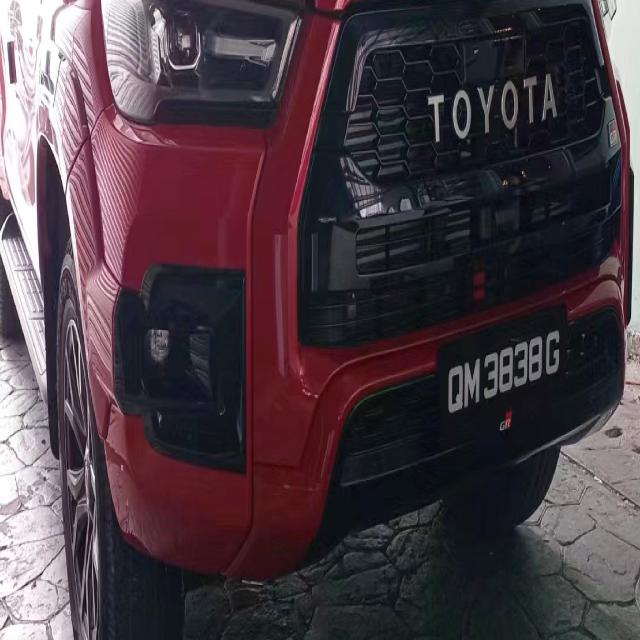car-plate: (434, 290, 578, 450)
